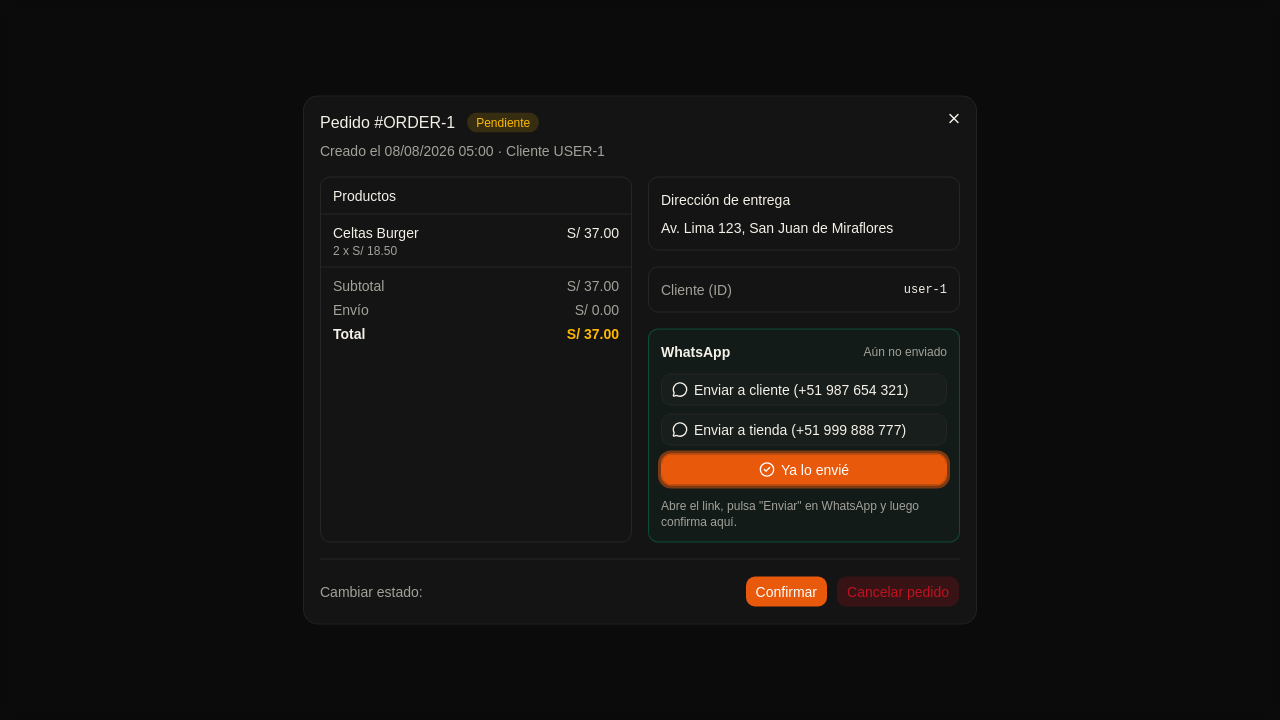
Test: OrderDetailDialog - WhatsApp (links cliente/tienda + confirmación) › error al marcar → mensaje del backend inline, sin alert()
The width and height of the screenshot is (1280, 720).
Click the button "Ya lo envié": (804,470) [661,454,947,486]
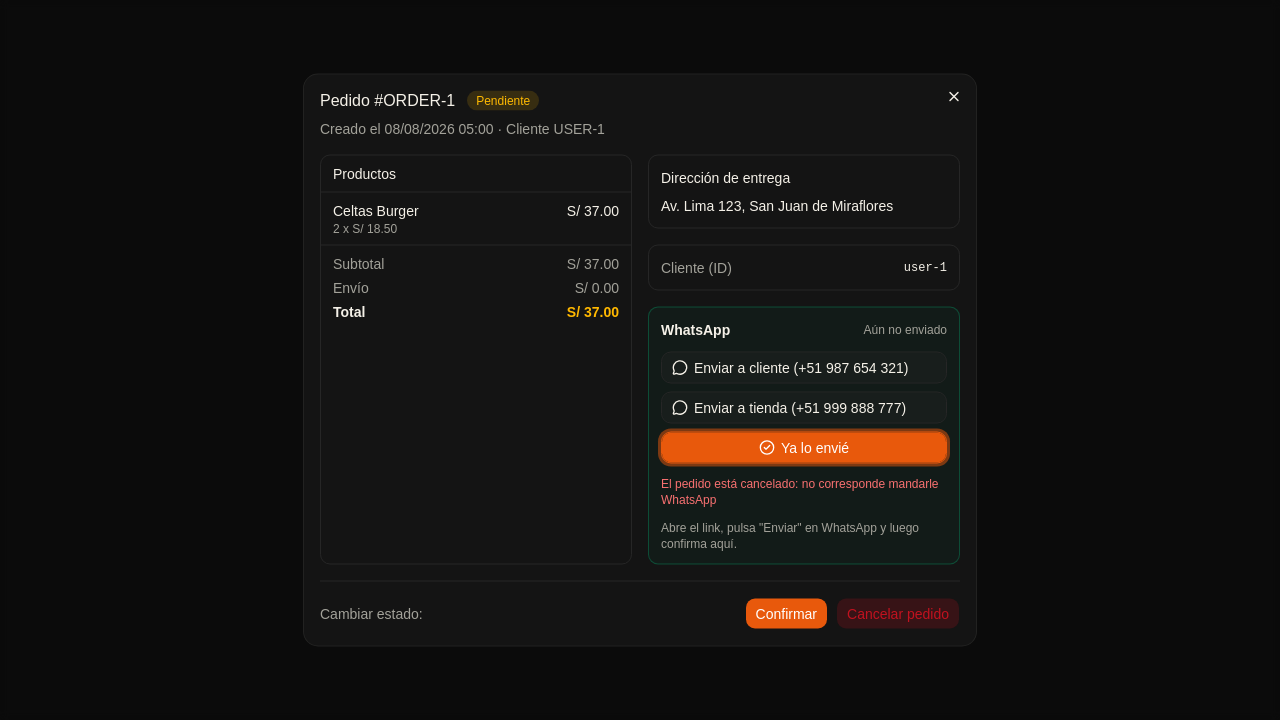
Check: the text "El pedido está cancelado: no corresponde mandarle WhatsApp" is shown, box [661,476,947,508]
